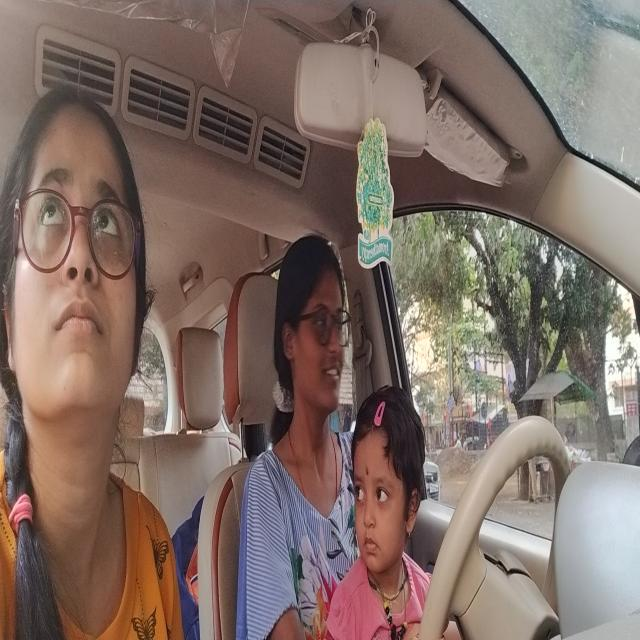child: (342, 406, 421, 578)
person: (5, 104, 146, 422), (274, 234, 348, 416)
